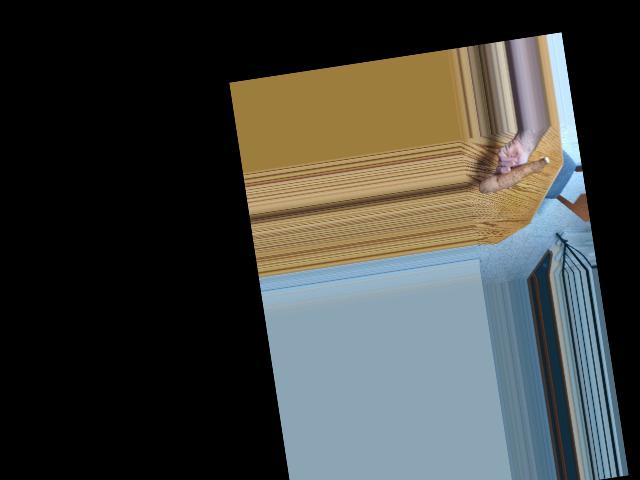sweet_potato: (477, 152, 552, 197)
